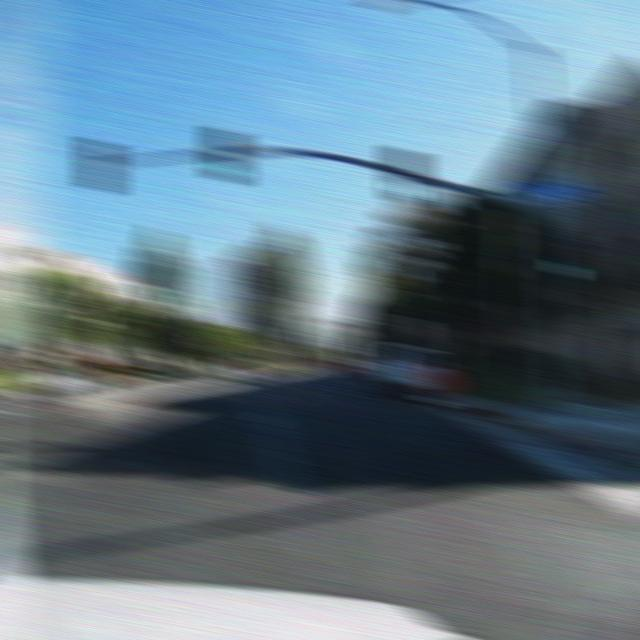speedLimit35: (405, 315, 431, 337)
